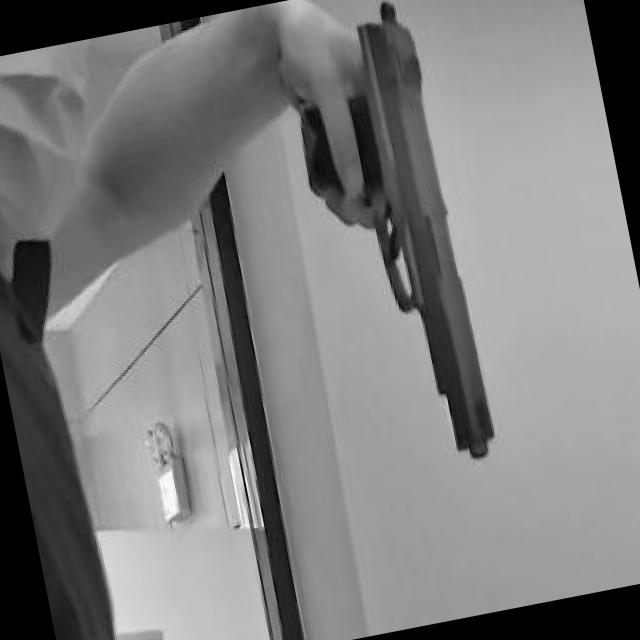Guns: (239, 0, 551, 545)
